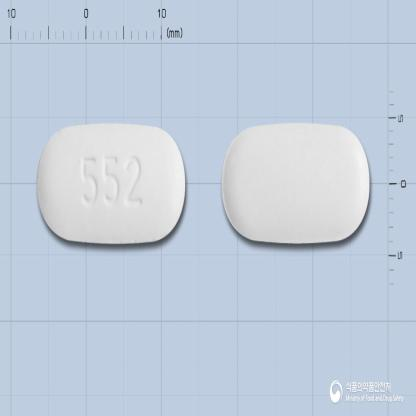pill: (219, 119, 372, 246), (35, 120, 188, 246)
